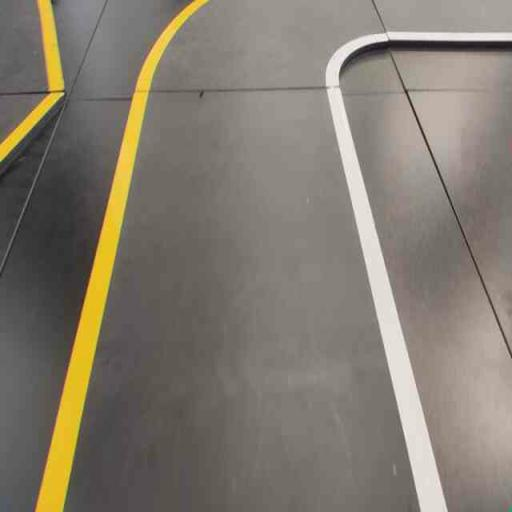straight: (21, 116, 462, 511)
